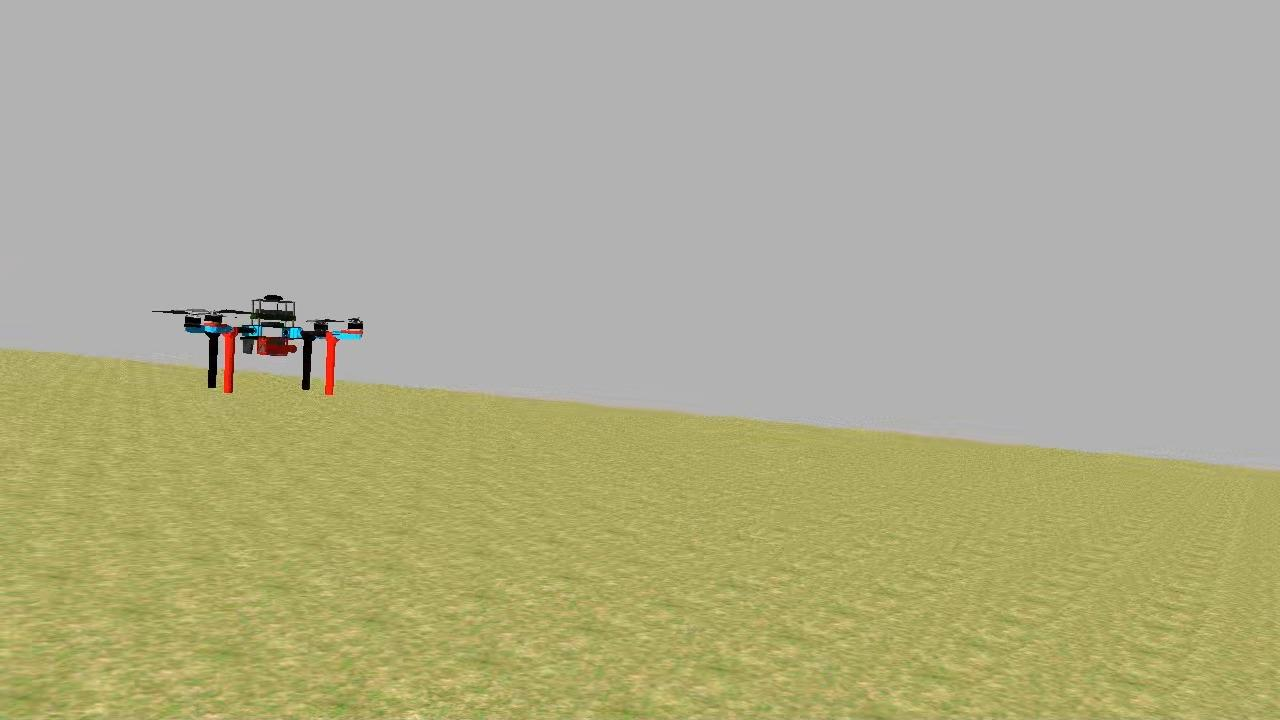UAV: (178, 292, 366, 400)
